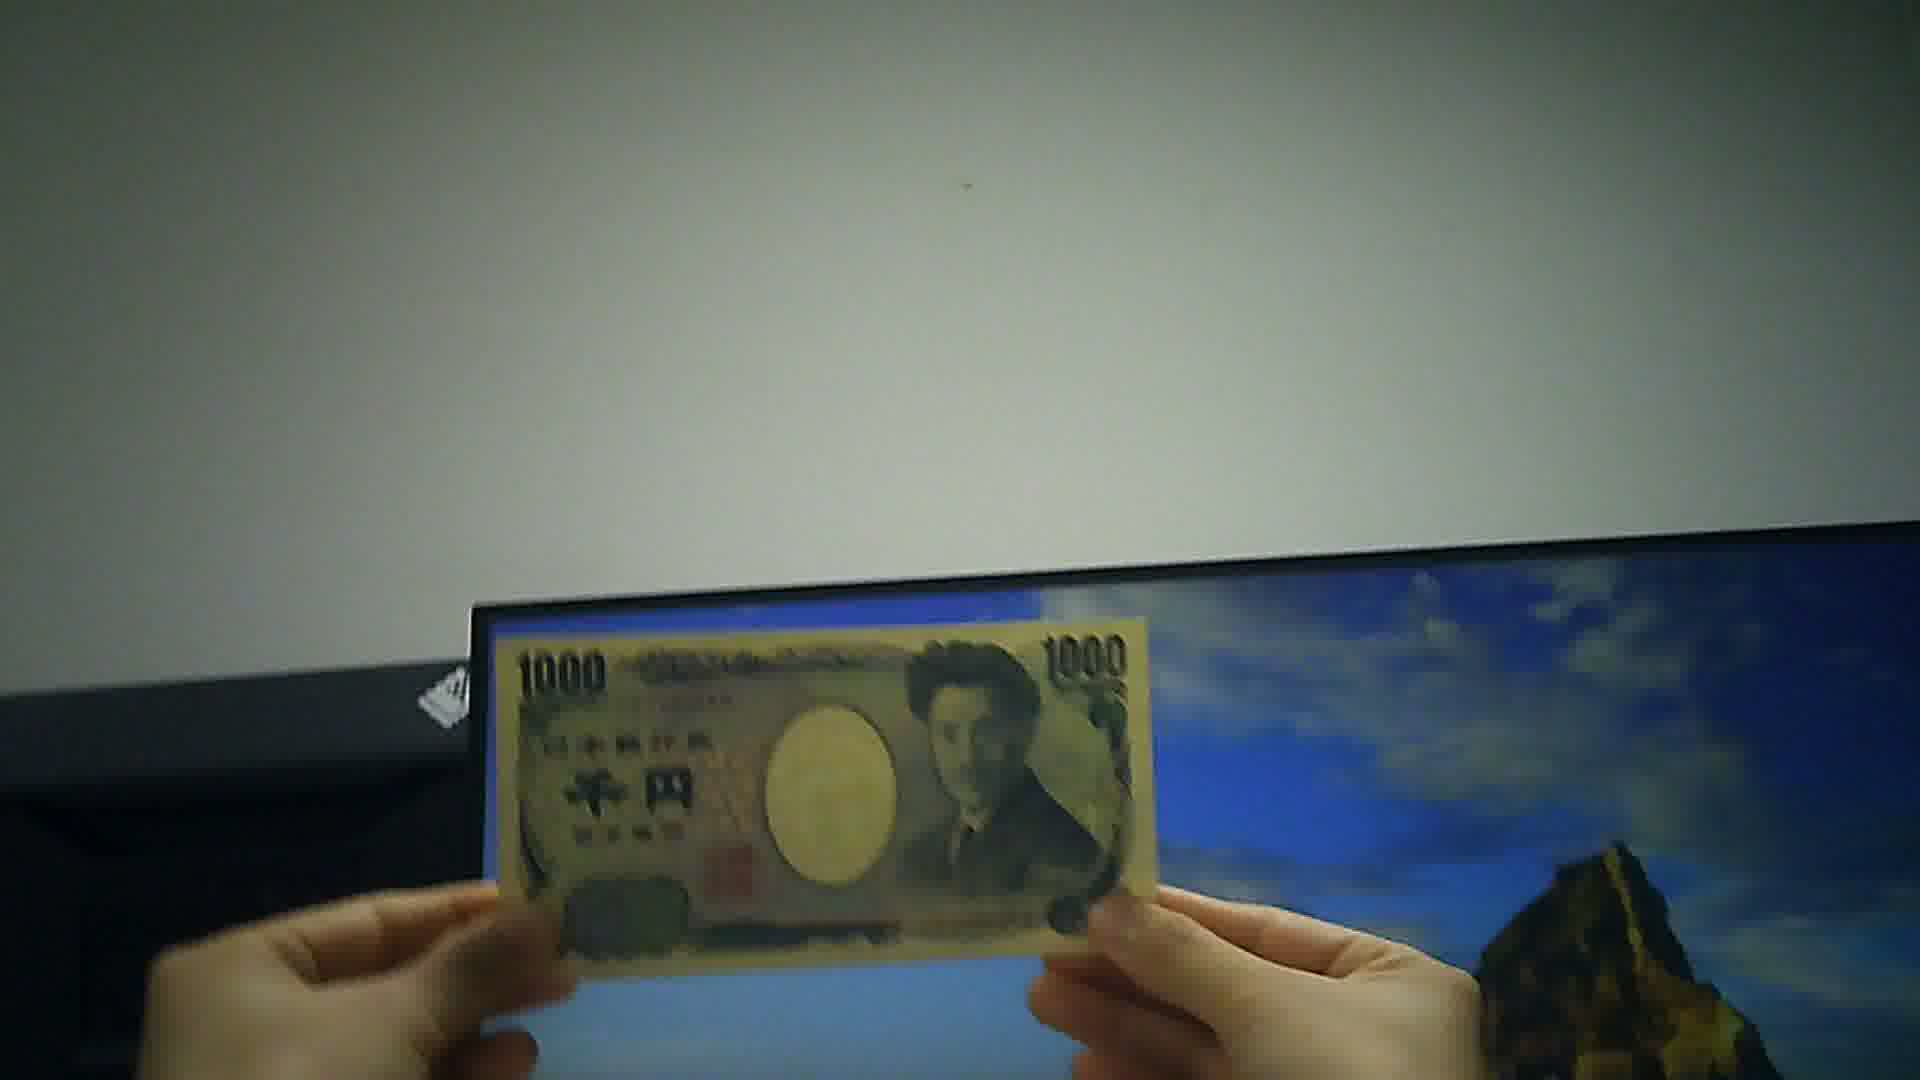1,000 Yen: (487, 630, 1156, 947)
